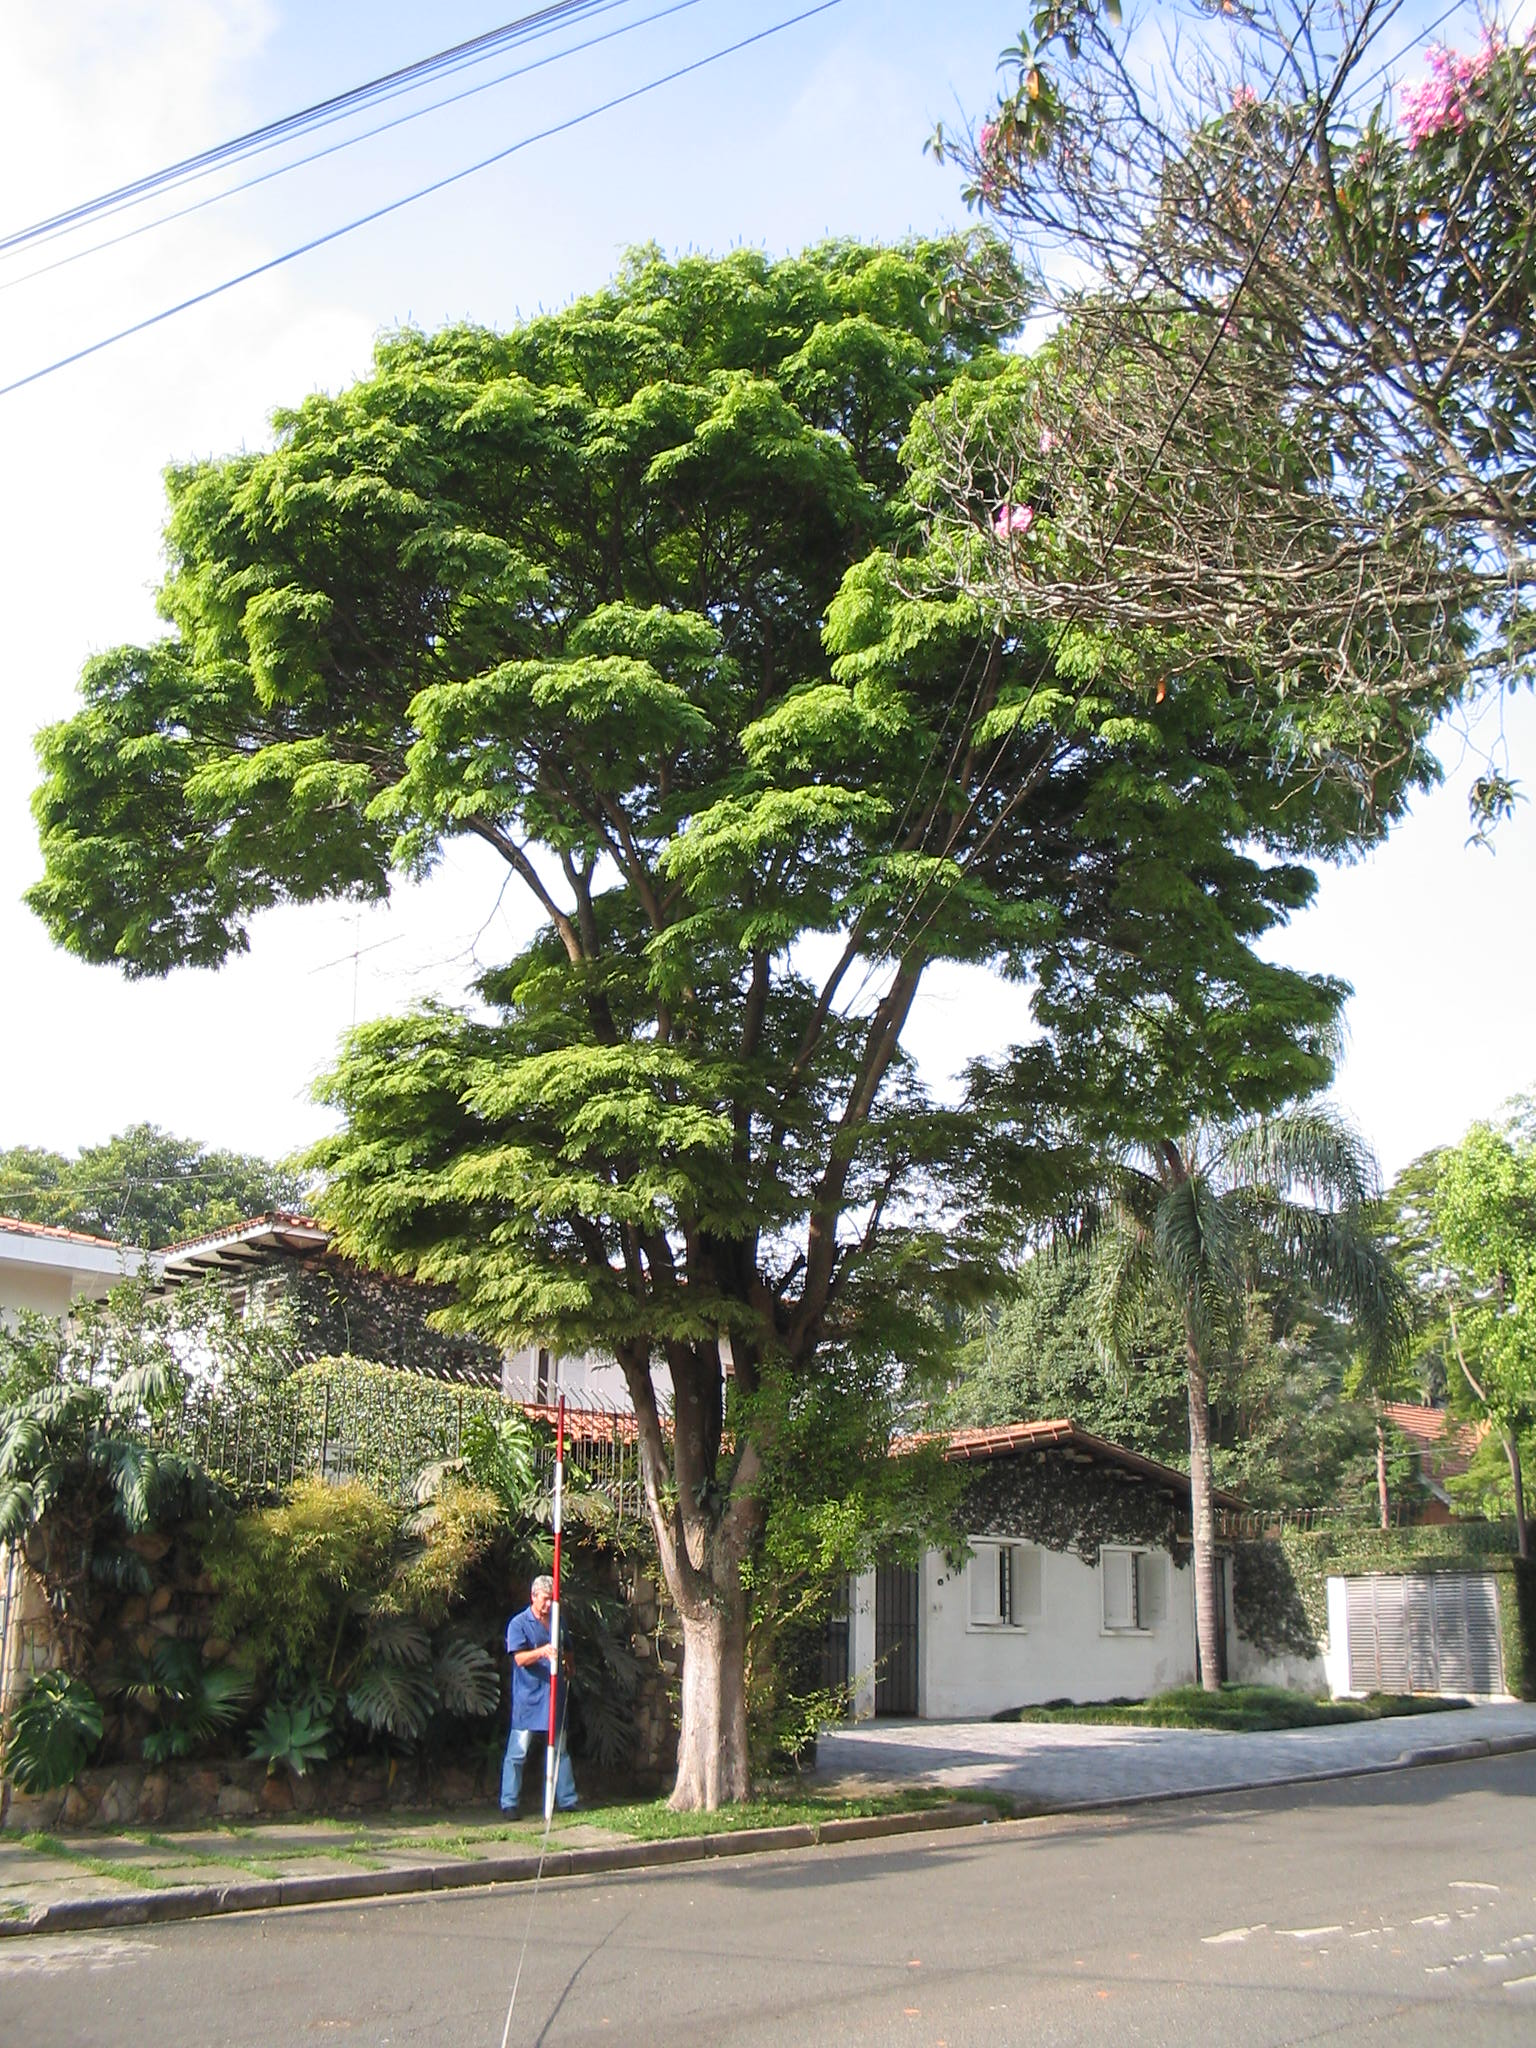crown: (31, 237, 1436, 1387), (1025, 1116, 1409, 1408)
stem: (632, 1596, 778, 1813), (1154, 1421, 1249, 1687)
stick: (518, 1397, 594, 1825)
tree: (23, 229, 1442, 1816), (1020, 1111, 1417, 1692)
